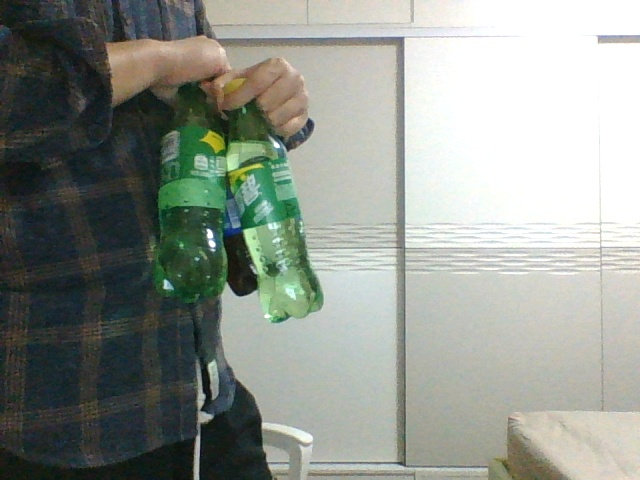Sprite: (226, 79, 324, 322), (152, 85, 226, 302)
